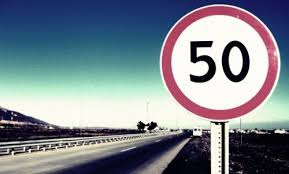Speed_limit_50km: (159, 4, 282, 118)
